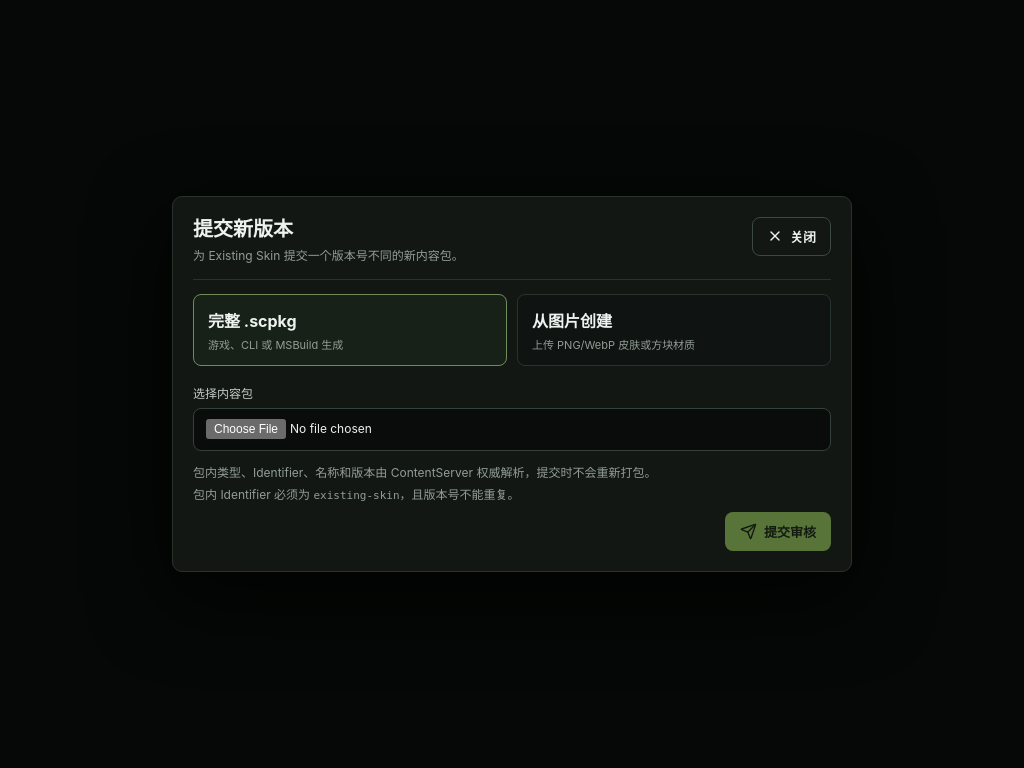
Test case: ContentSubmissionDialog › reuses an existing content identity for a new image version
Click the button "从图片创建 上传 PNG/WebP 皮肤或方块材质". click: (572, 321)
box: [517,294,831,366]
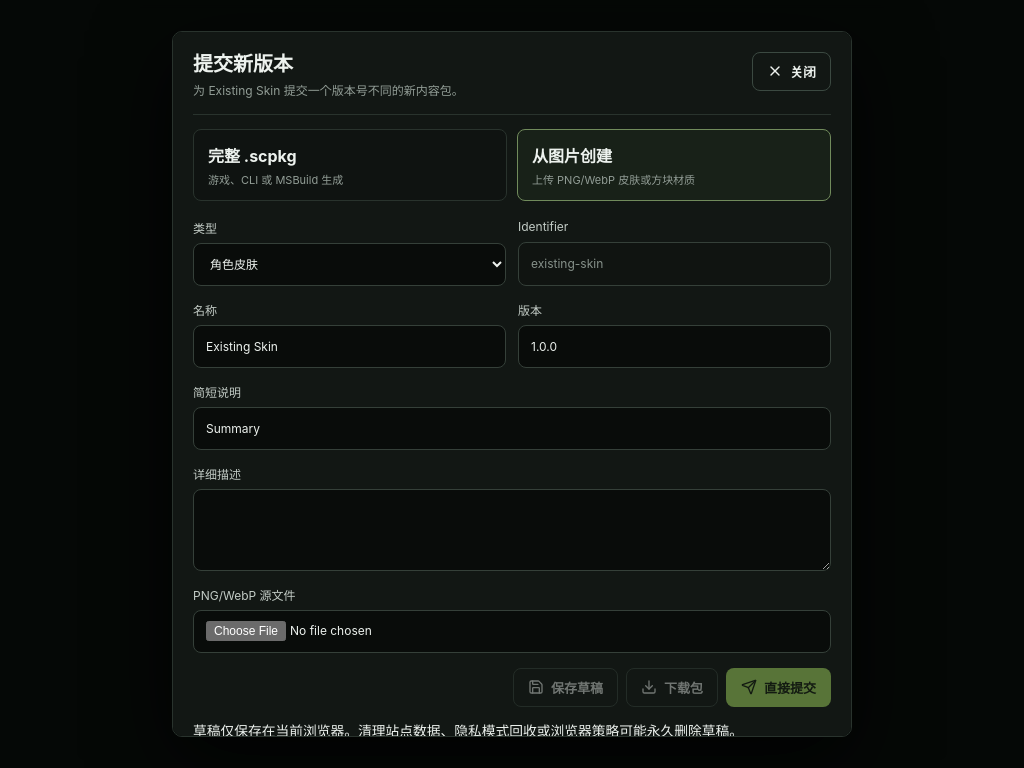
Expected: the text "提交新版本" is shown, [193,52,293,76]
Now the field labelled "Identifier" holds "existing-skin", box [518,242,831,286]
